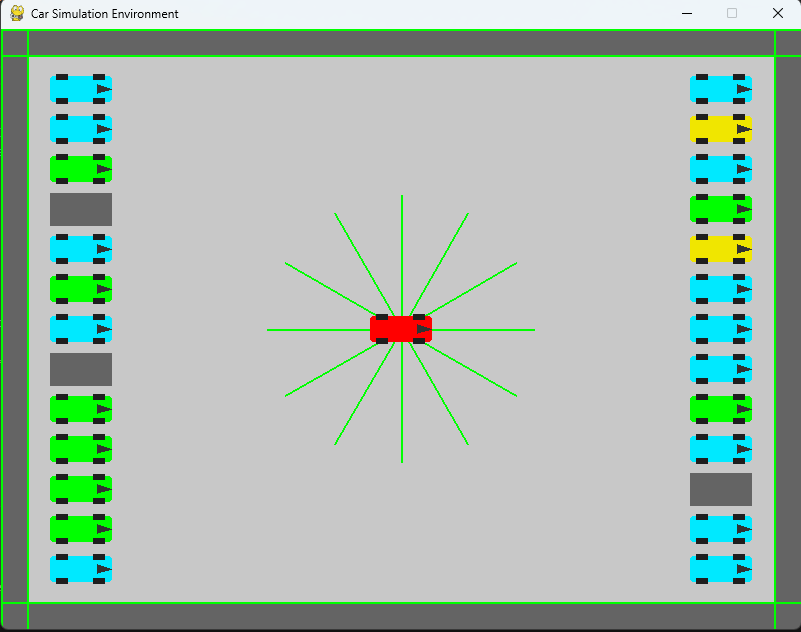ControlledCar: (361, 303, 450, 356)
ParkedCar: (682, 270, 758, 310), (46, 69, 117, 109), (49, 388, 120, 428), (47, 269, 119, 307), (686, 311, 754, 351), (686, 69, 755, 108), (44, 433, 116, 470), (44, 309, 115, 346), (686, 191, 759, 226), (48, 514, 120, 549), (45, 554, 117, 589), (686, 353, 754, 390), (686, 150, 755, 186), (48, 474, 116, 510), (684, 554, 758, 587), (48, 232, 115, 268), (686, 113, 756, 147), (46, 112, 117, 145), (689, 391, 755, 426), (691, 511, 755, 547), (685, 233, 755, 265), (689, 432, 756, 465), (49, 151, 115, 184)
ParkingSpot: (687, 471, 759, 513), (44, 190, 119, 229), (48, 349, 115, 386)
